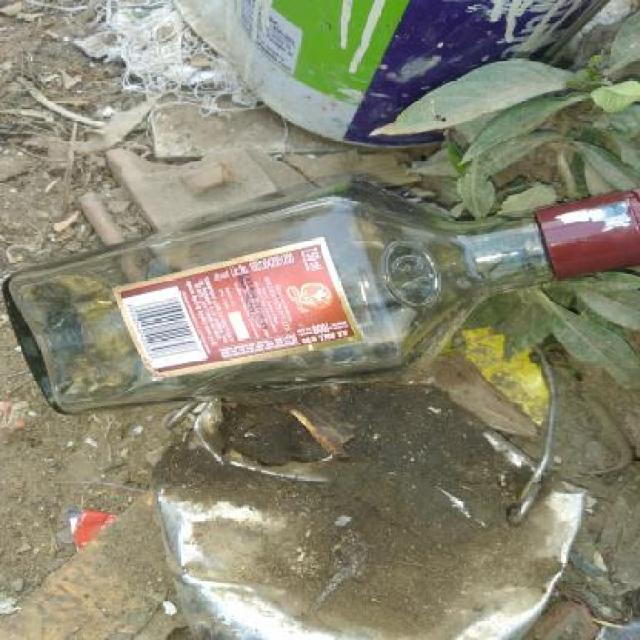garbage: (2, 191, 640, 431)
